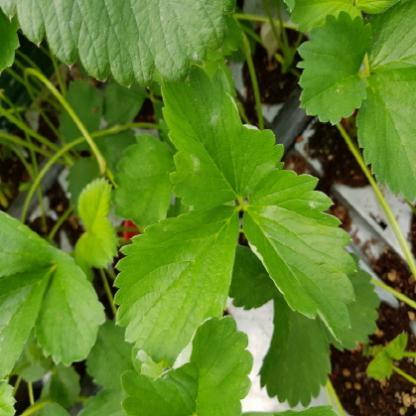Strawberry_Powdery_Mildew_Leaf: (240, 166, 360, 347), (0, 0, 238, 89), (160, 62, 286, 214), (120, 313, 254, 415)
